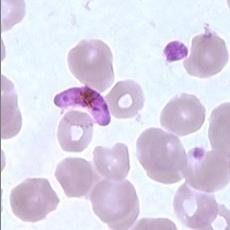Infected: (52, 85, 110, 129)
Uninfected: (136, 127, 188, 184), (10, 176, 59, 224), (184, 32, 227, 79), (172, 184, 218, 226), (92, 178, 137, 220), (187, 150, 230, 193), (159, 94, 205, 134), (53, 157, 97, 197), (67, 40, 114, 77), (57, 109, 94, 153), (108, 81, 145, 118), (93, 144, 130, 181)
